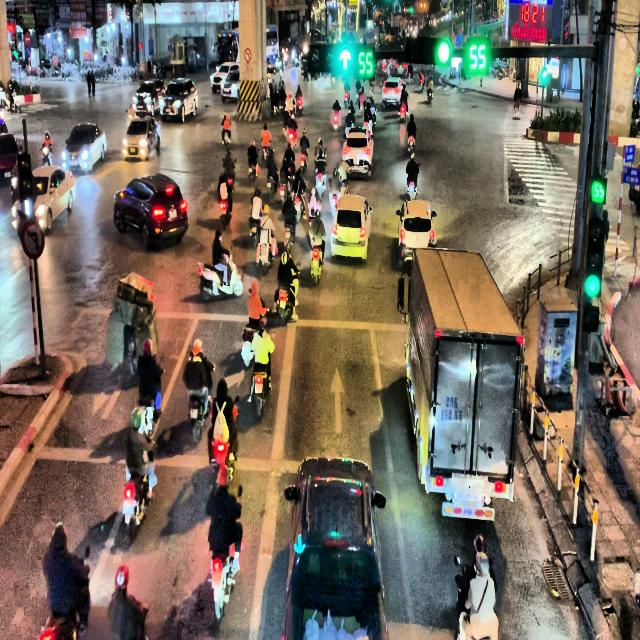lisence_plate: (441, 498, 495, 522), (439, 394, 464, 427), (168, 212, 179, 220), (346, 234, 352, 243), (354, 156, 359, 166)
